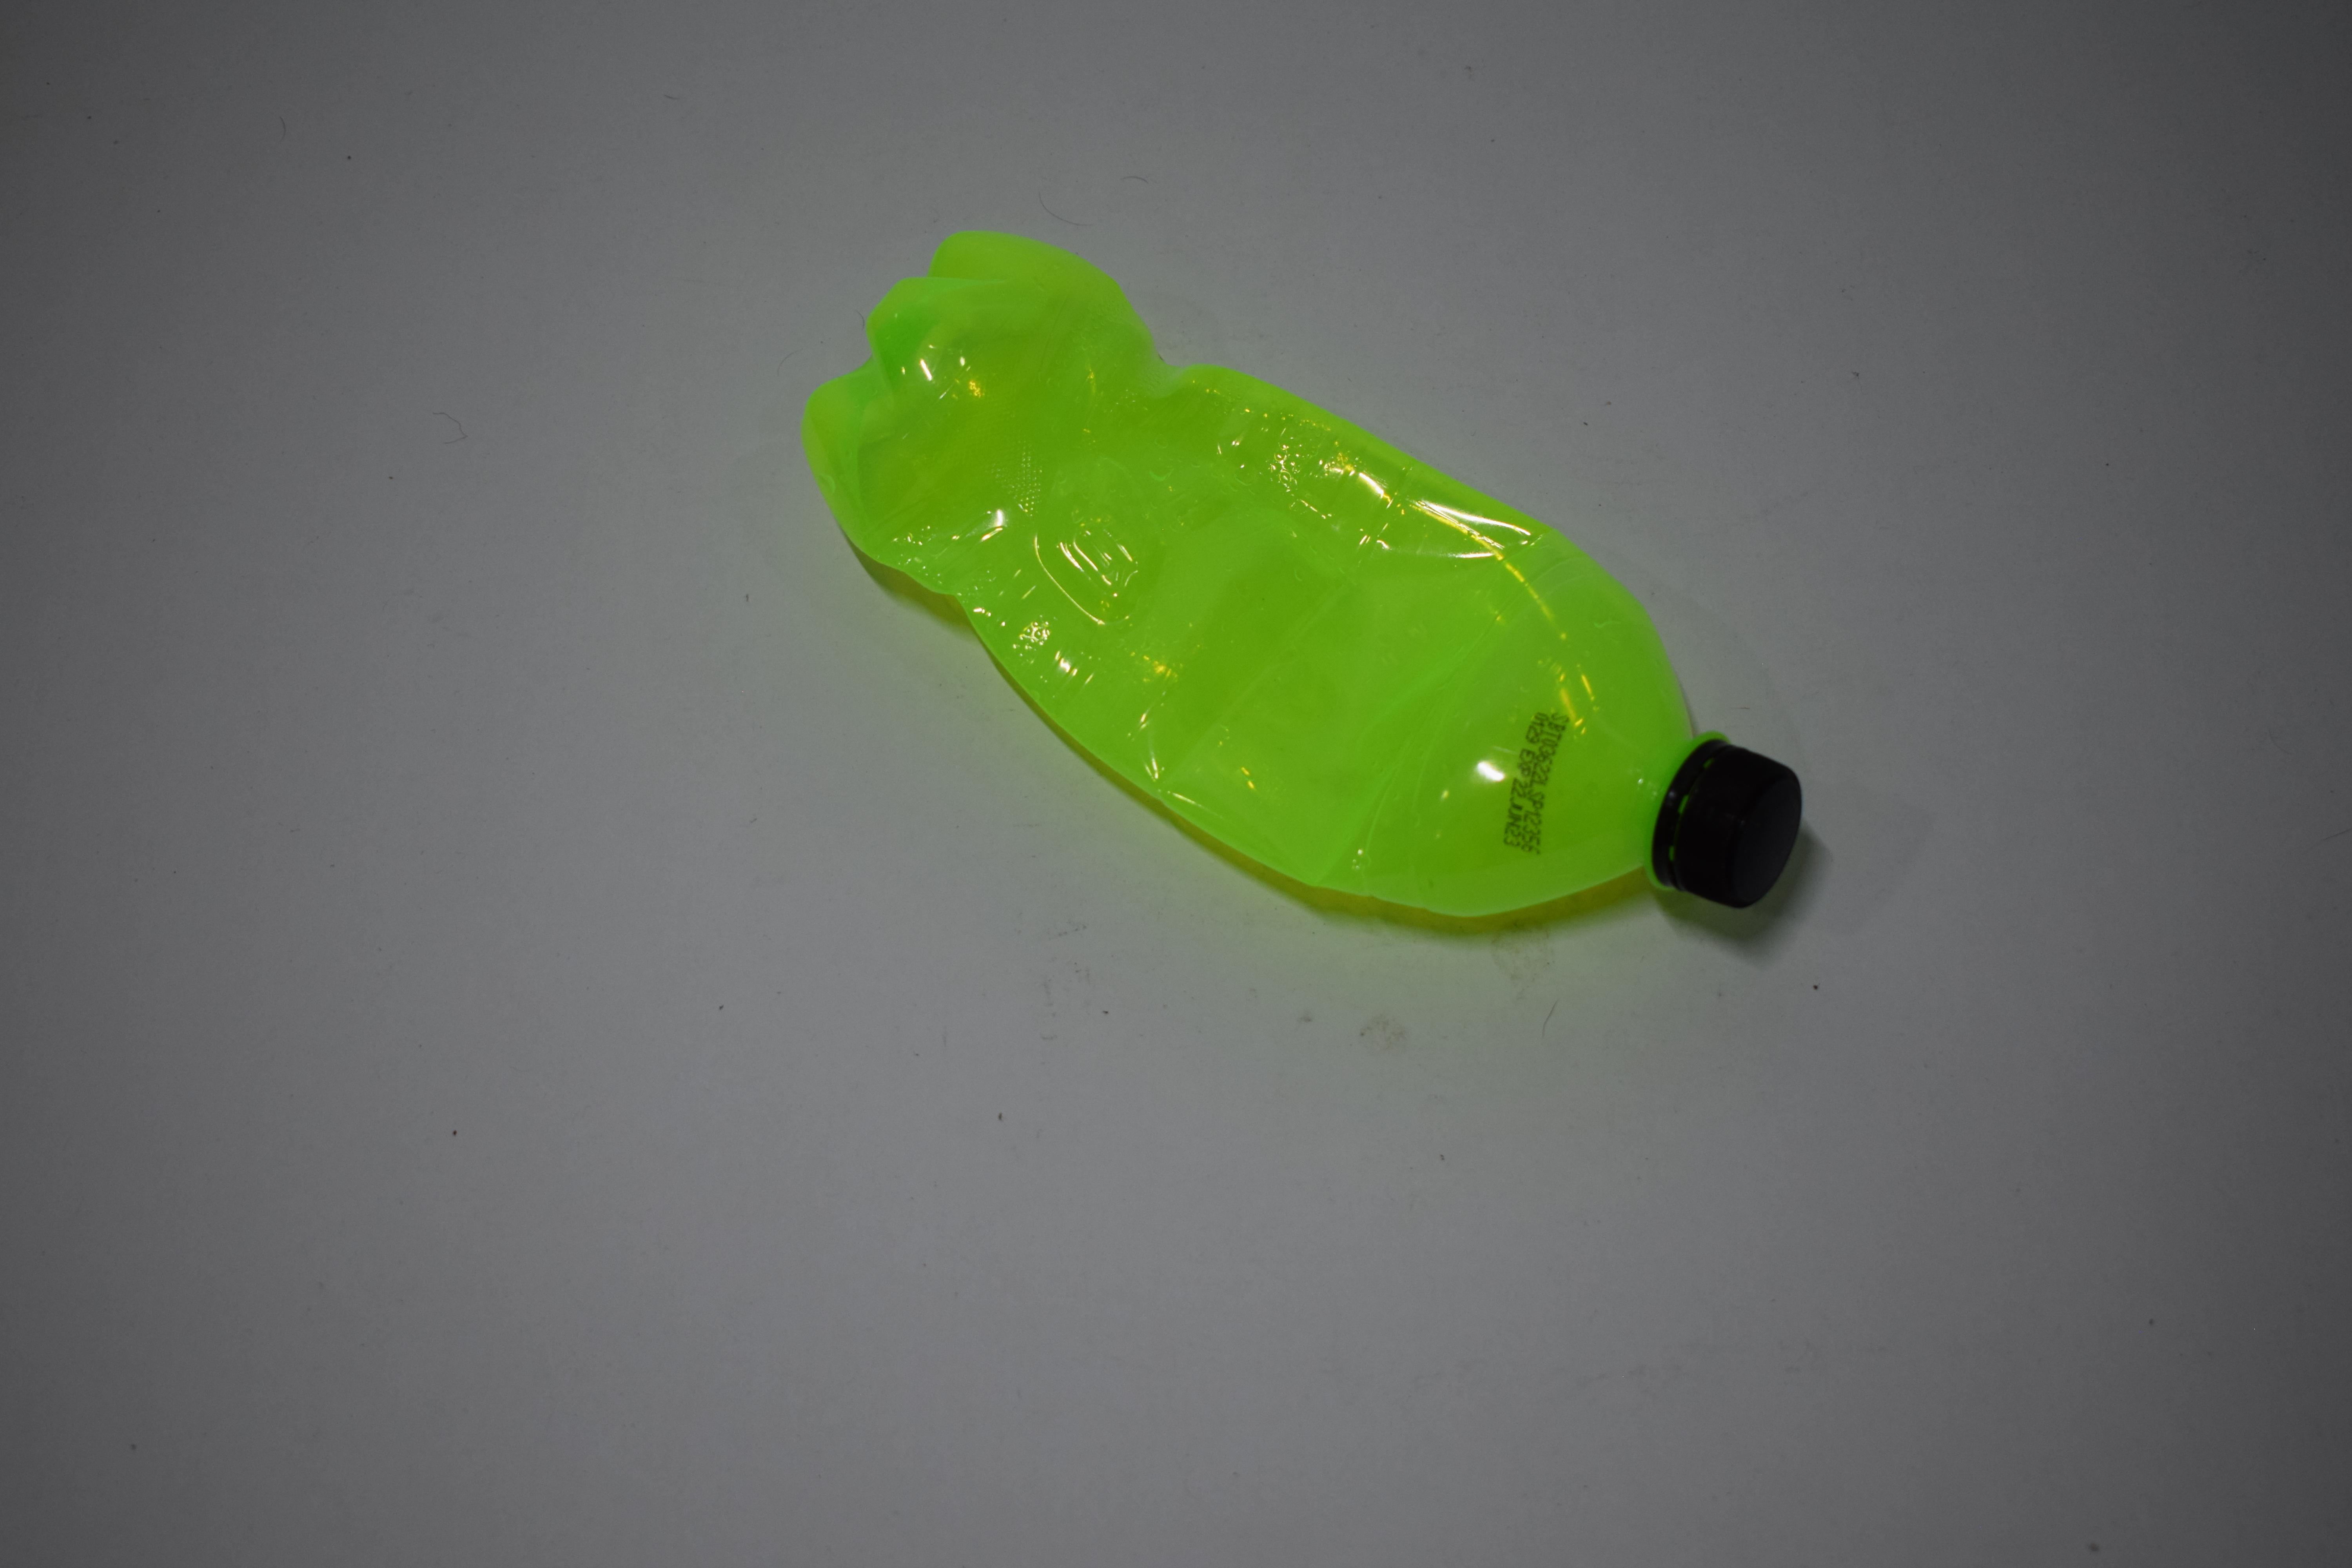bottle: (0, 262, 506, 901)
